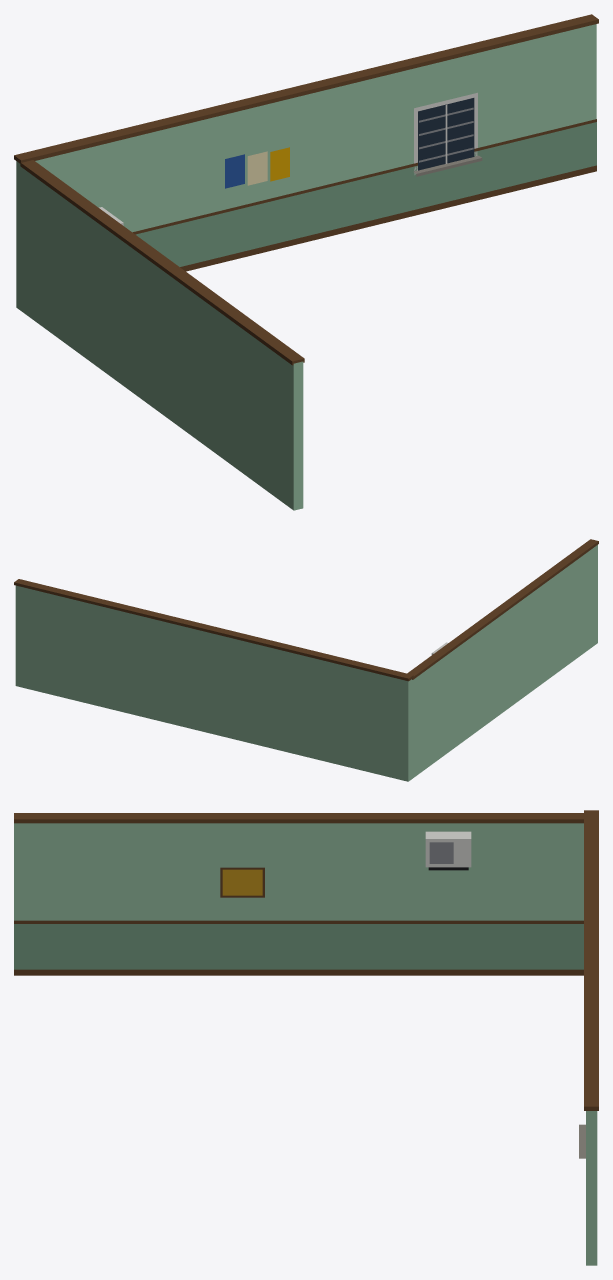
File: building_room_agent.3910aeb98d96.glb
The picture shows the model from 3 angles, top to bottom: view 1: azimuth 30°, elevation 25°; view 2: azimuth 150°, elevation 25°; view 3: azimuth 270°, elevation 25°; orthographic projection. The views are drawn at different scales.
Visible parts, largest first — view 1: body; view 2: body; view 3: body.
Boxes of the visible parts, x1,y1,x2,y2 form: body: [14, 14, 598, 510]; body: [14, 539, 598, 781]; body: [14, 810, 598, 1265].
Size of the model in its own units: 12.26 by 3.08 by 10.23.
